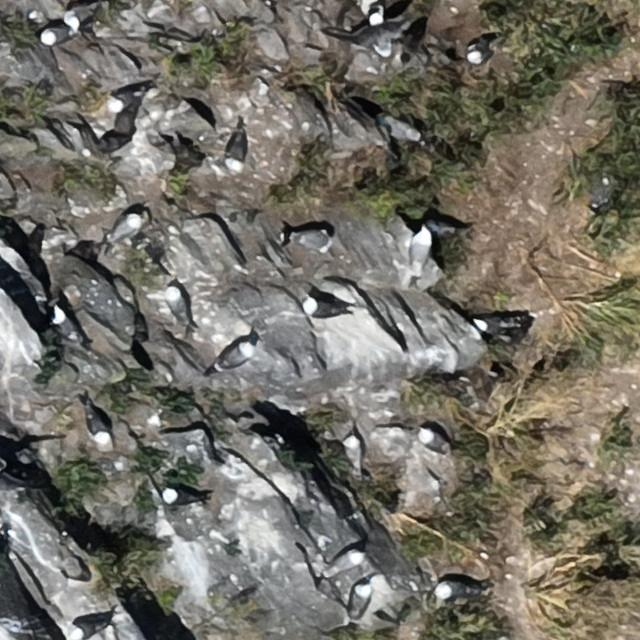umineko: (78, 396, 110, 445), (105, 82, 150, 114), (164, 286, 191, 332), (70, 613, 119, 637), (50, 304, 80, 342), (280, 230, 337, 249), (227, 126, 246, 174), (219, 343, 251, 367), (410, 230, 430, 266), (112, 215, 140, 240), (421, 429, 449, 454), (330, 550, 362, 571), (304, 300, 340, 318), (392, 122, 422, 142), (436, 582, 471, 599), (343, 436, 361, 469), (42, 25, 73, 43), (353, 585, 370, 615), (163, 491, 194, 506), (475, 316, 506, 331), (468, 42, 488, 62), (368, 7, 383, 28)
